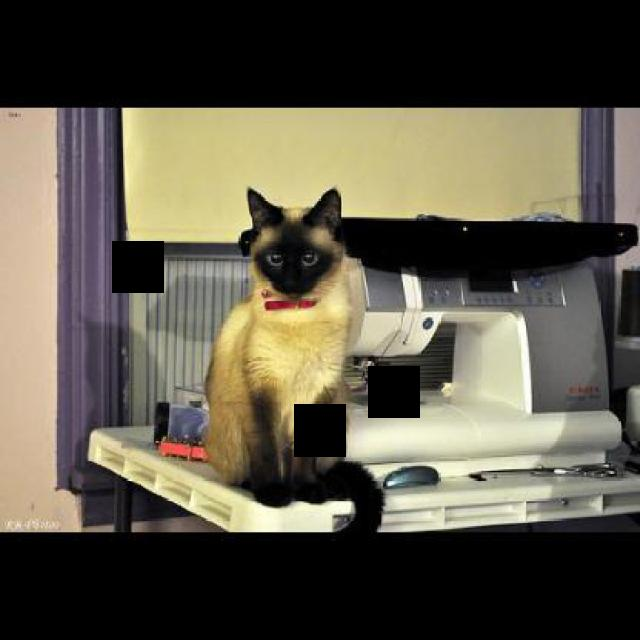unauthorized: (202, 184, 384, 536)
